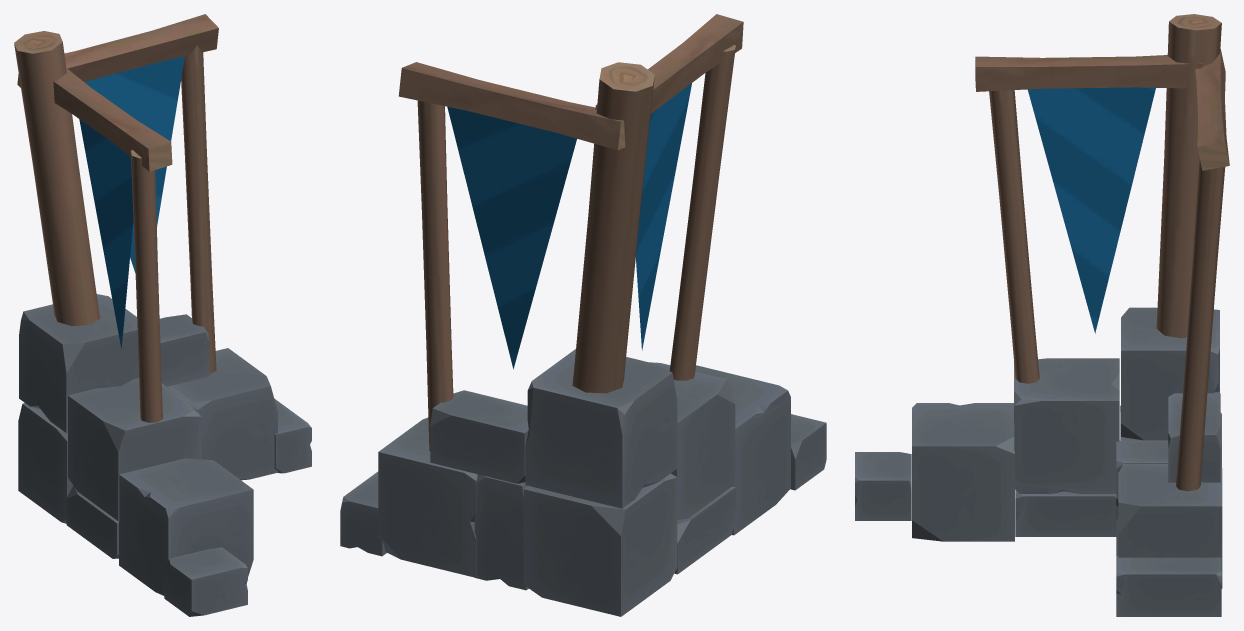
File: WallCorner-002_40_13_2250.fbx
3 renders of one model, left to right at view 1: azimuth 30°, elevation 25°; view 2: azimuth 150°, elevation 25°; view 3: azimuth 270°, elevation 25°, orthographic. The views are drawn at different scales.
Parts seen in each view (by area): view 1: WallCorner-002, WoodFatty (1) (×2), Flag2.001 (1) (×2), WoodTop (2) (×2), WoodFatty; view 2: WallCorner-002, WoodFatty (1) (×2), Flag2.001 (1) (×2), WoodTop (2) (×2), WoodFatty; view 3: WallCorner-002, WoodFatty (1) (×2), Flag2.001 (1), WoodTop (2) (×2), WoodFatty.
Part boxes in pixels (x1,y1,x2,y2): WallCorner-002: (18,294,311,616); WoodFatty (1) (×2): (14,31,216,373); Flag2.001 (1) (×2): (79,56,184,349); WoodTop (2) (×2): (17,14,218,171); WoodFatty: (130,150,162,422); WallCorner-002: (340,349,826,616); WoodFatty (1) (×2): (417,62,654,450); Flag2.001 (1) (×2): (447,83,691,369); WoodTop (2) (×2): (398,14,743,150); WoodFatty: (669,45,735,380); WallCorner-002: (855,307,1222,616); WoodFatty (1) (×2): (1156,14,1225,491); Flag2.001 (1): (1027,87,1155,333); WoodTop (2) (×2): (975,48,1229,170); WoodFatty: (989,90,1039,383).
Bounding box in the file's own units: 2.96 × 5.06 × 3.57.
